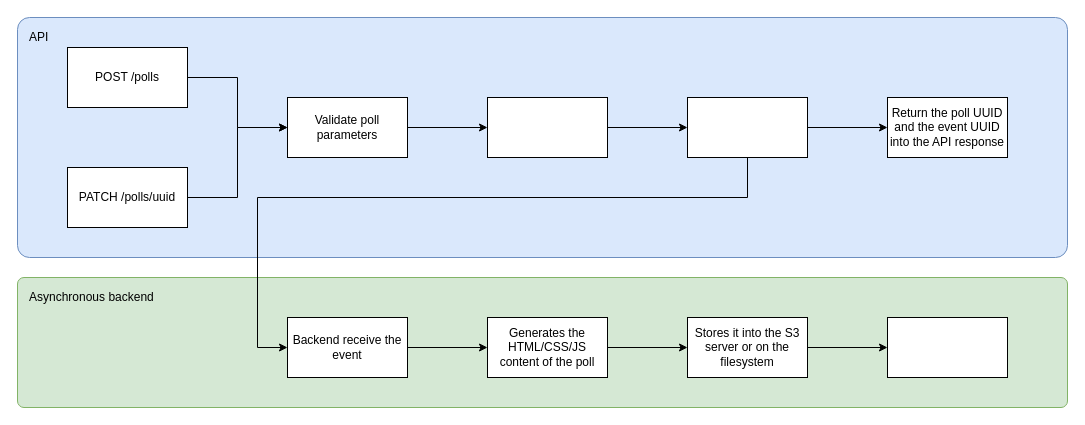
Image size: 1085x425. Some labels were removed from this diagram. Here are the shapes that lost their labels. From the top down, the centre of each, then its label:
At (x=547, y=127): "Store/Update the poll in the database".
At (x=747, y=127): "Publish an event into the task queue with poll parameters".
At (x=947, y=347): "Changes the status of the event in the DB and store the access link of the poll".
